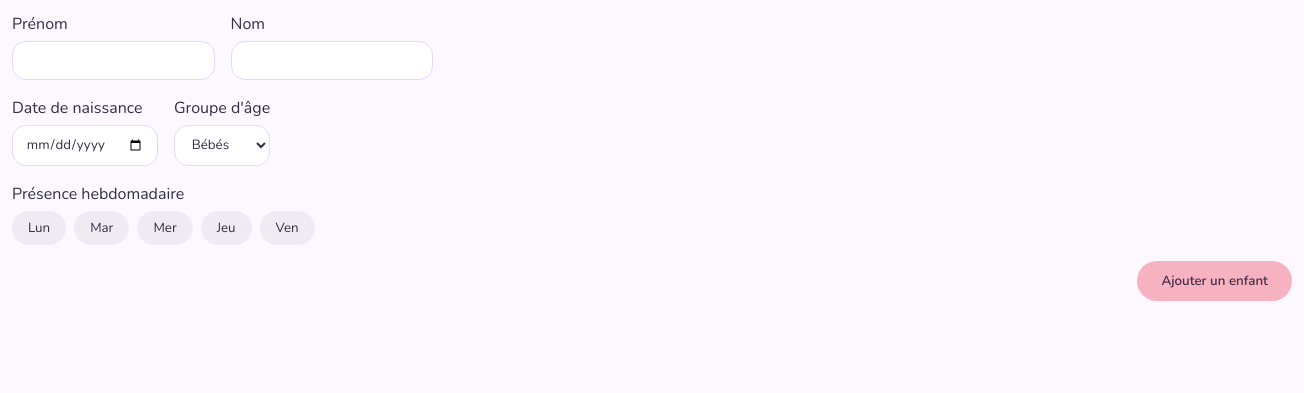
ChildForm › validates required fields before submitting
The width and height of the screenshot is (1304, 393).
Click the button "Ajouter un enfant" at (1215, 281), box [1138,261,1292,301]
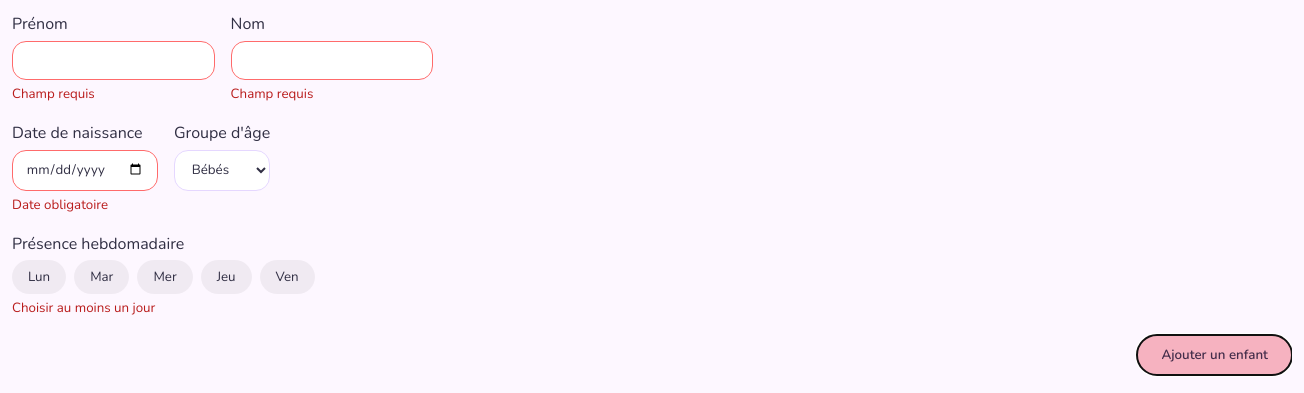
Check: the text "Champ requis" is shown 2 times, box [12,85,95,103]; [231,85,313,103]
Check: the text "Date obligatoire" is shown, box [12,196,108,214]
Check: the text "Choisir au moins un jour" is shown, box [12,299,155,317]
